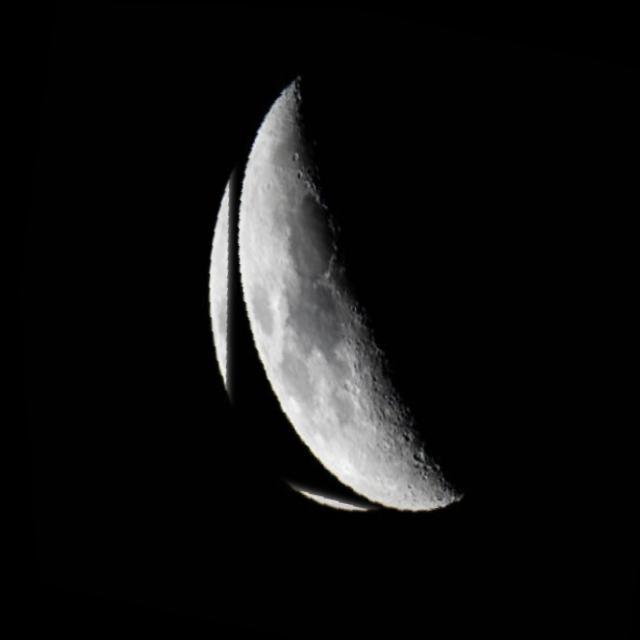moon: (141, 32, 597, 554)
